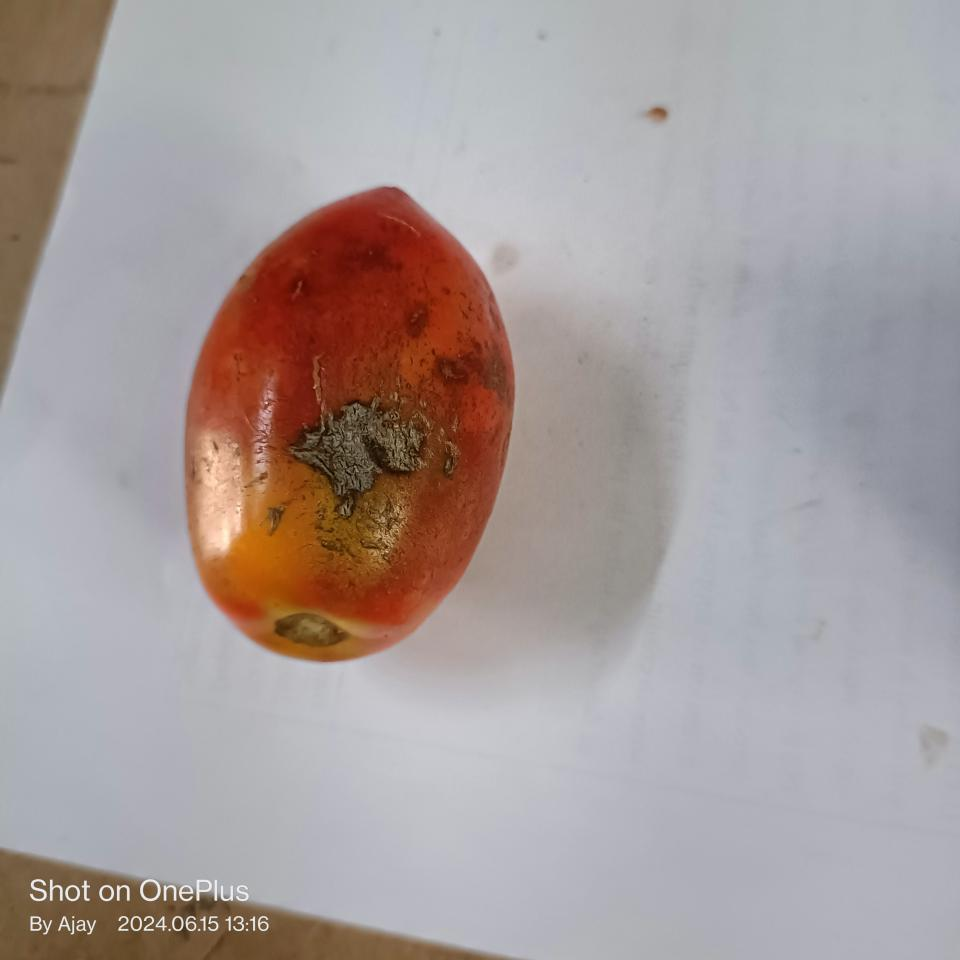Bacterial_Spot: (284, 396, 461, 509)
